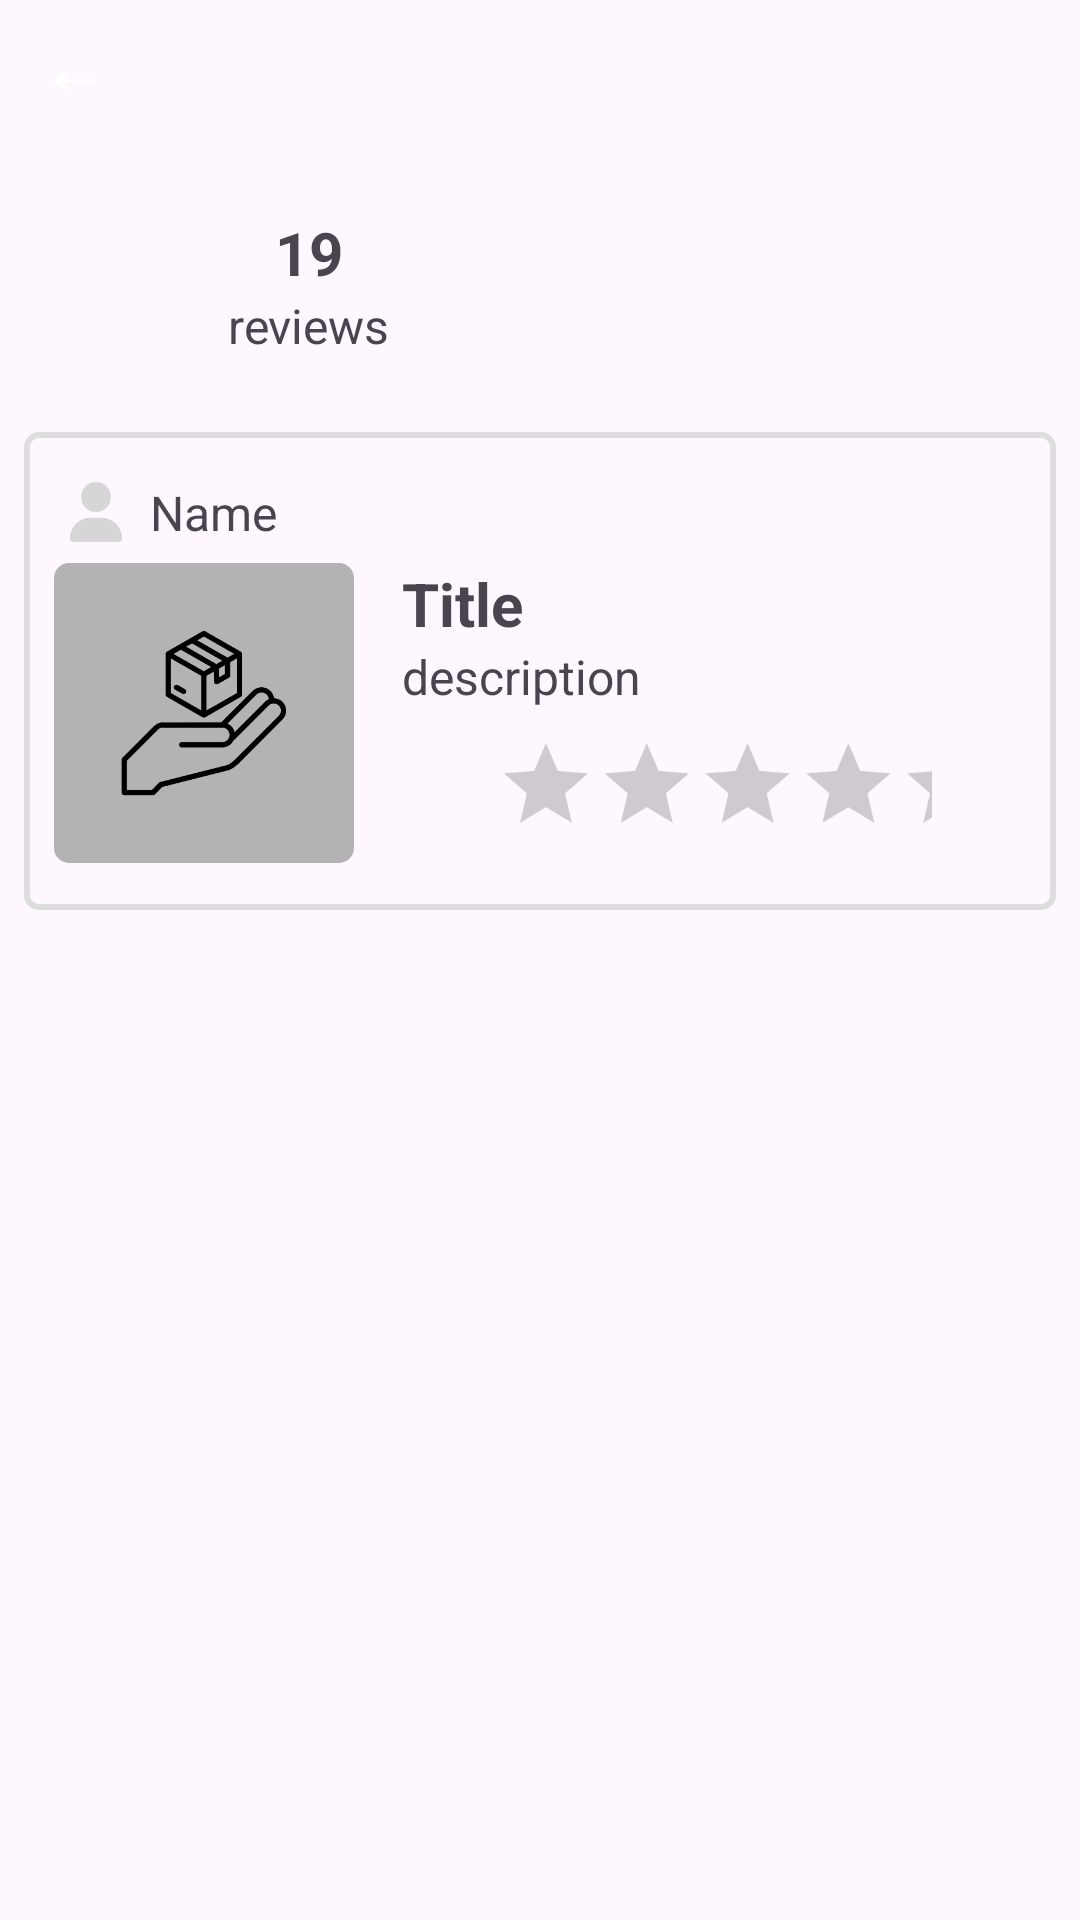

Icons on this 1080px x 1920px Android screen, each with its box as [x1=x1, y1=y1, x2=x2, y2=y2]:
user: [x1=70, y1=482, x2=122, y2=542]
